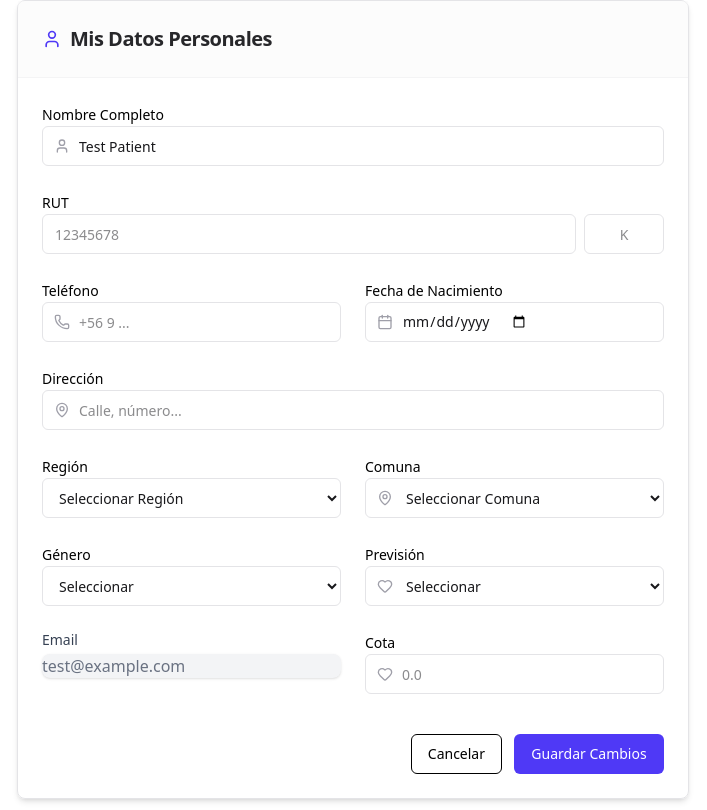
Test: PatientProfileForm Component › RUT Fields - Separated Input › should only accept numbers in RUT number field
Step 1. Type "abc123xyz" into the field with placeholder "12345678" → (309, 234), box [42,214,576,254]
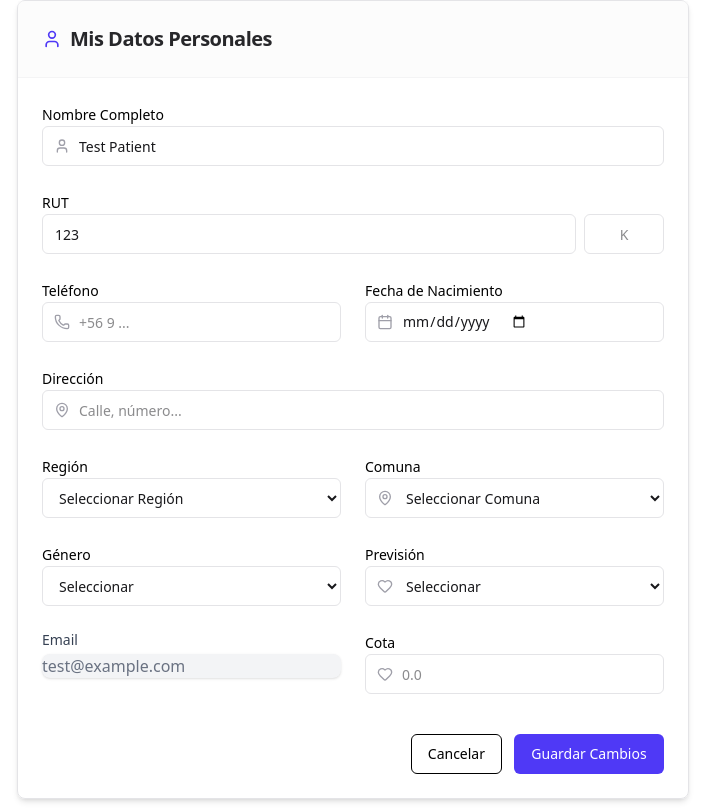
expect the field with placeholder "12345678" holds "123": met, box [42,214,576,254]
